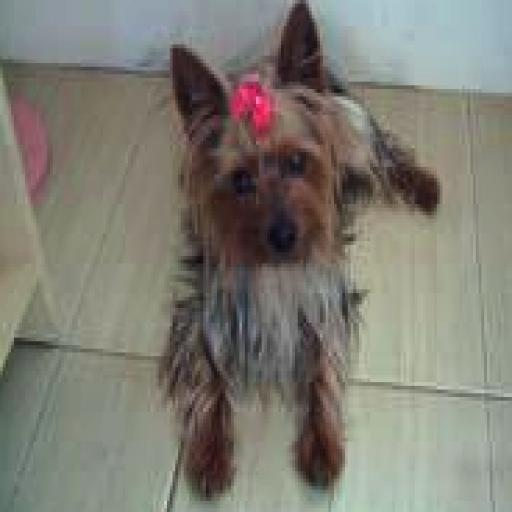dog_face: (171, 9, 358, 306)
